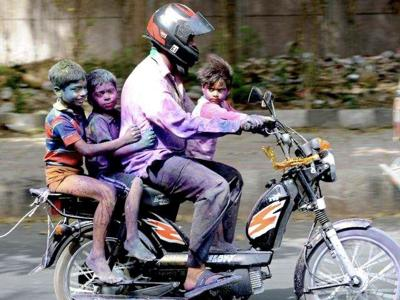With Helmet: (144, 1, 214, 73)
